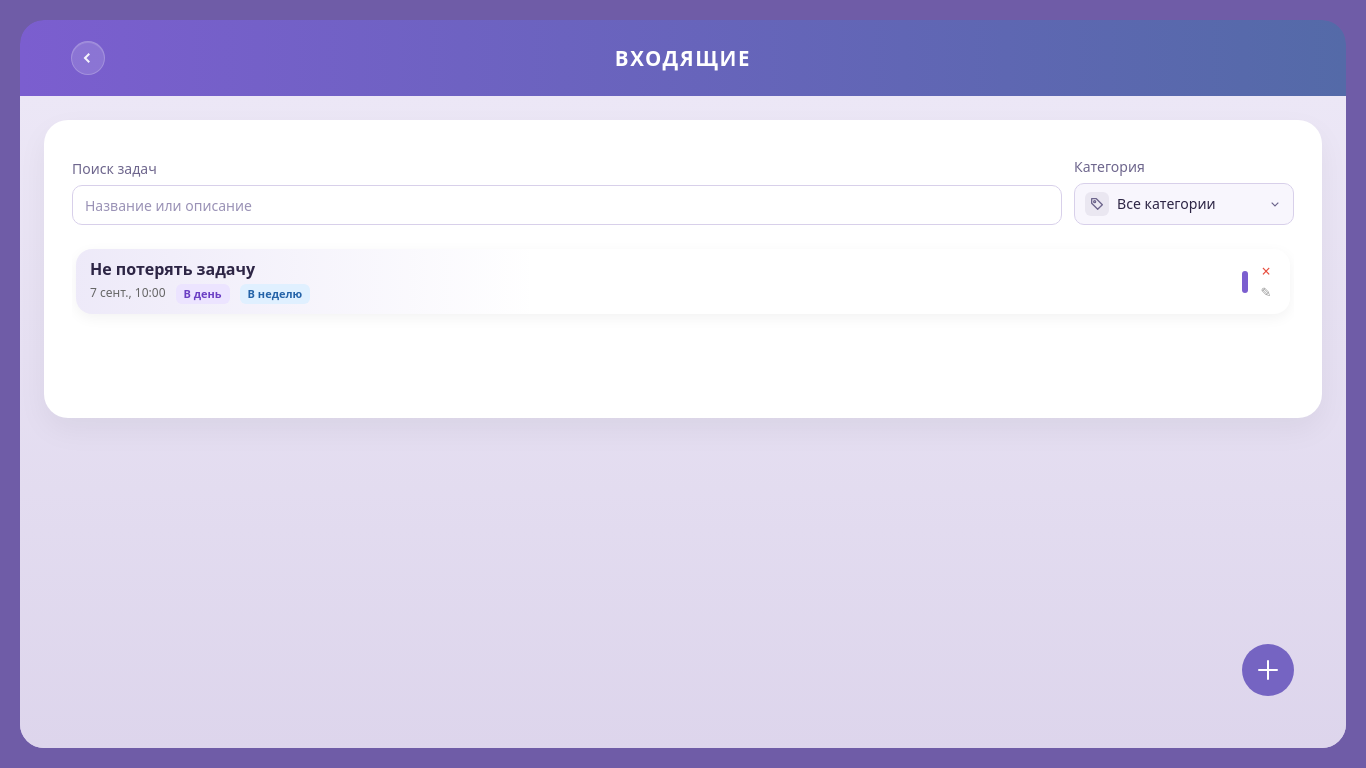
Test: keeps the task on deletion failure and removes it after a successful retry
The image size is (1366, 768).
Click the button titled "Удалить". click: {"x": 1266, "y": 269}
box: [1256,259,1276,279]
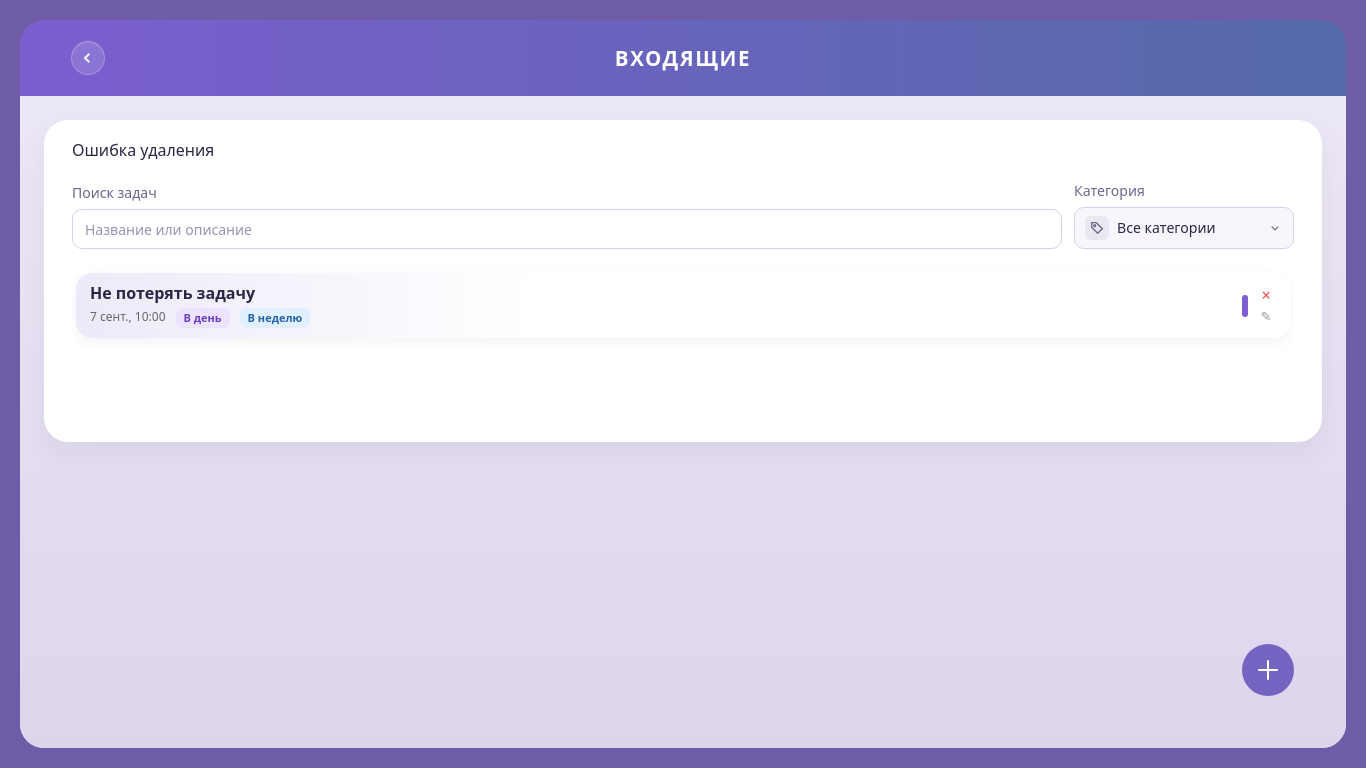
Expected: the text "Не потерять задачу" is shown, [90,282,255,304]
Result: the message "Ошибка удаления" is shown at [72,139,214,161]
Click the button titled "Удалить". click: {"x": 1266, "y": 293}
box: [1256,283,1276,303]
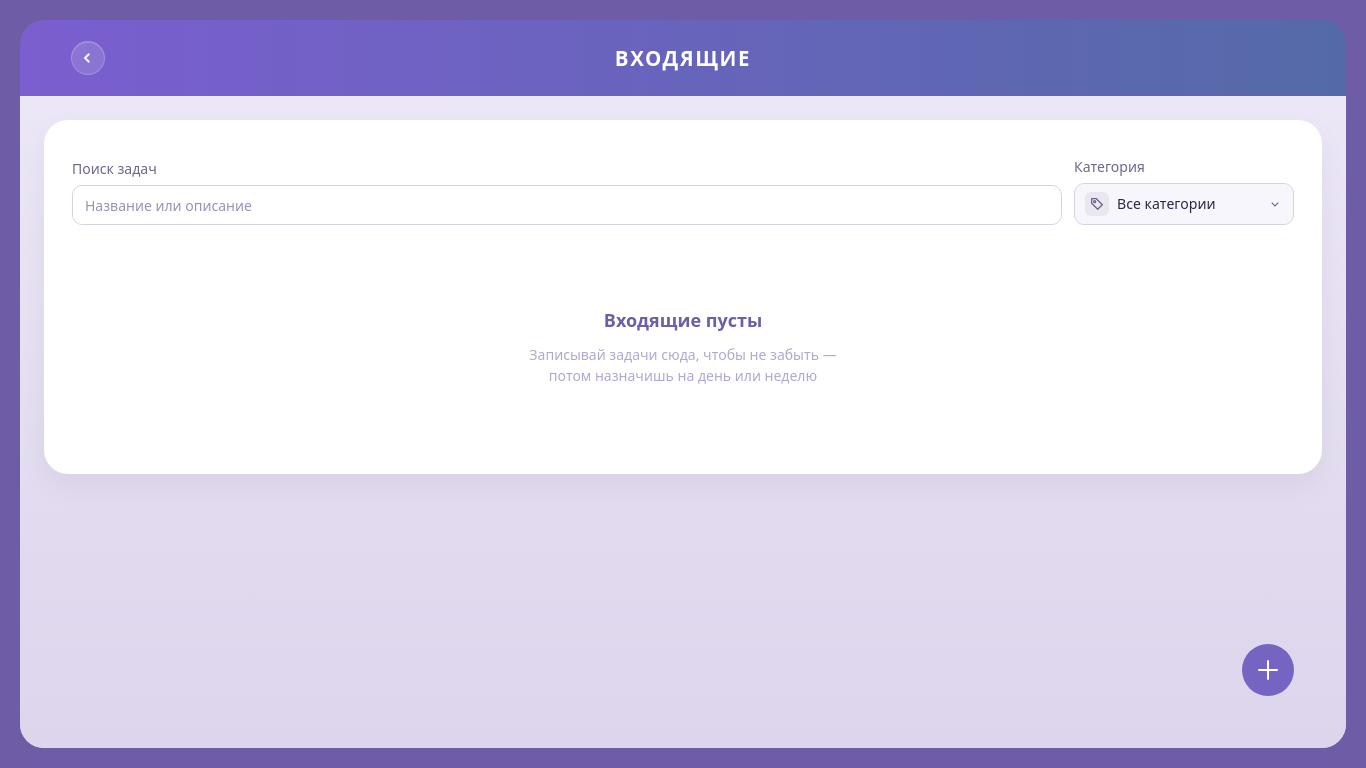
Result: the text "Не потерять задачу" is gone
Result: the message "Ошибка удаления" is gone
